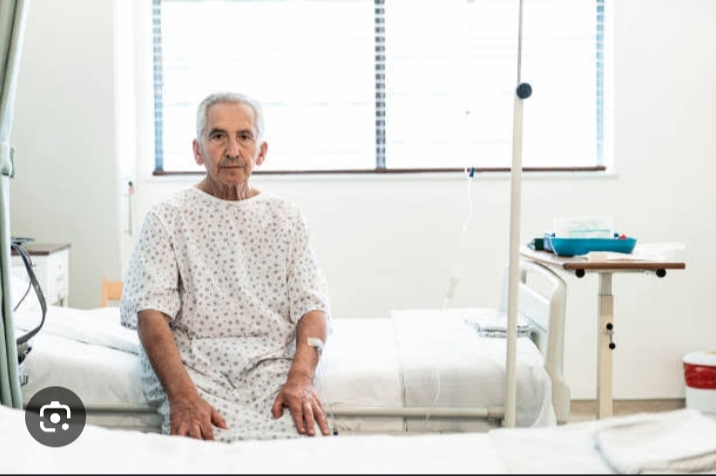sitting on bed: (60, 89, 432, 452)
